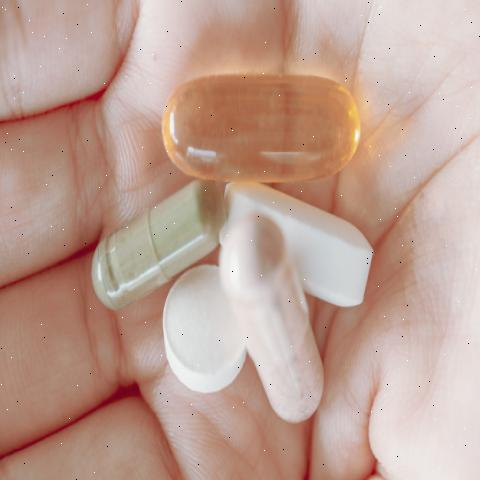Pill: (203, 185, 386, 321), (215, 214, 326, 436), (152, 265, 250, 430)
